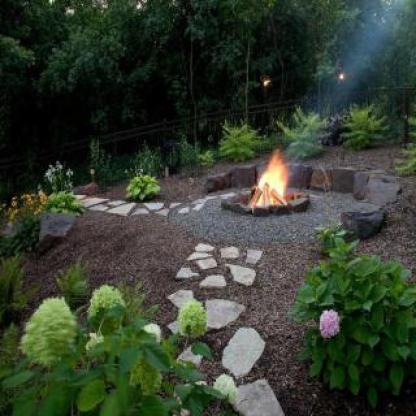fire: (252, 155, 291, 205)
